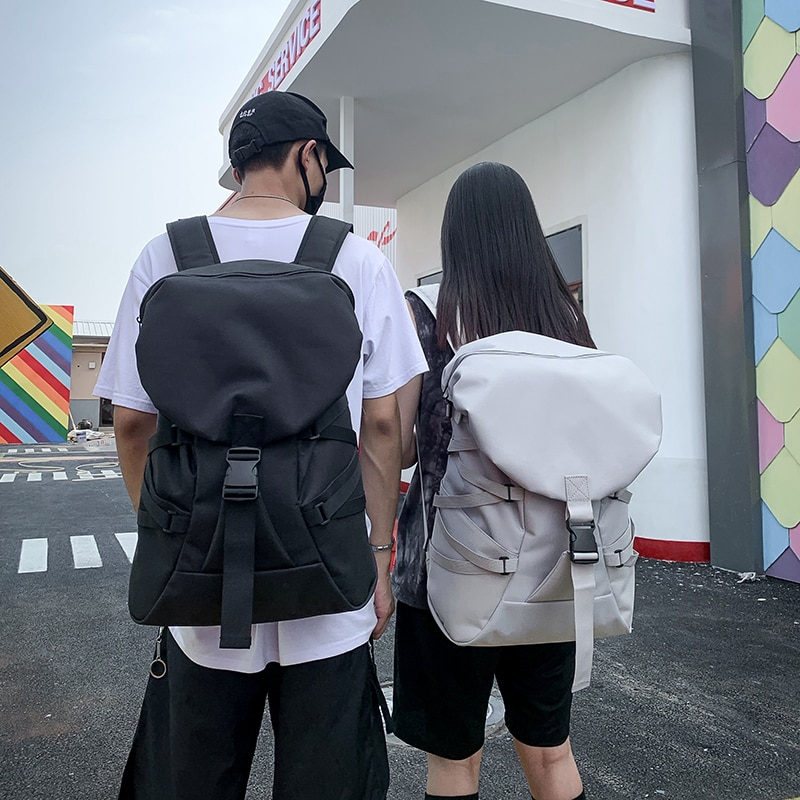Accessories|Hats: (229, 92, 355, 166)
Accessories|Necklaces: (231, 194, 295, 205)
Bottoms: (109, 635, 386, 800)
Bottoms|Shorts: (386, 601, 576, 760)
Men's Backpacks: (128, 214, 377, 643), (424, 327, 664, 661)
